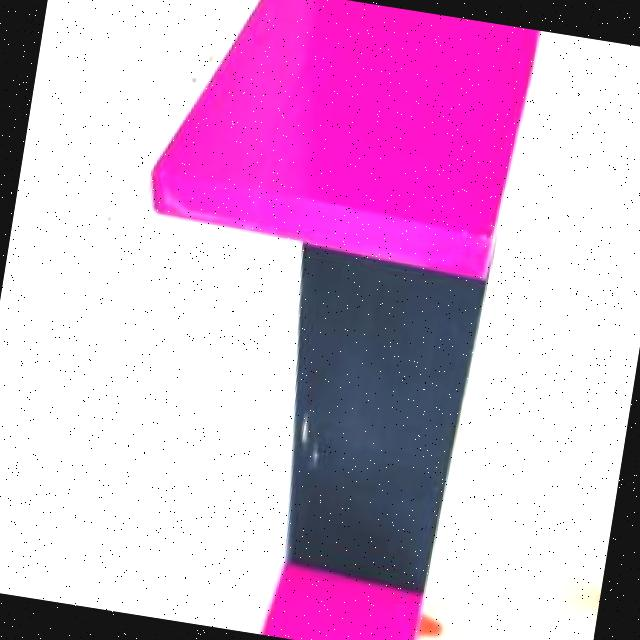xparking: (184, 0, 525, 277), (267, 567, 419, 640)
